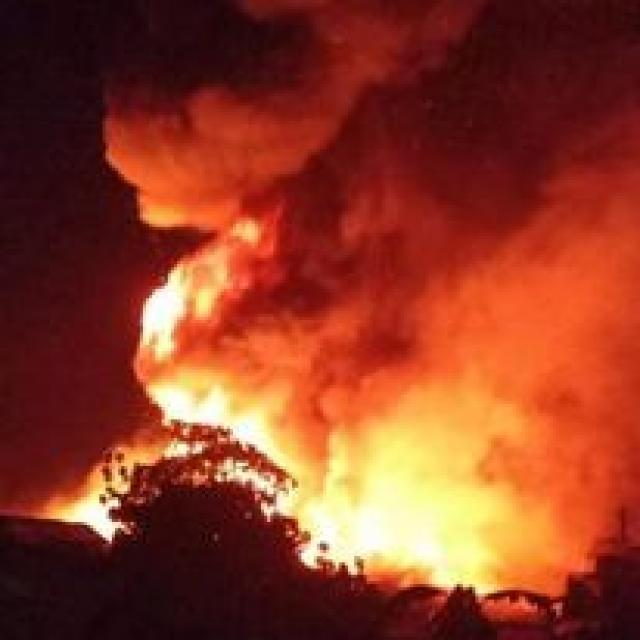Fire: (274, 478, 463, 592), (47, 457, 160, 553)
Smoke: (204, 1, 640, 428)
